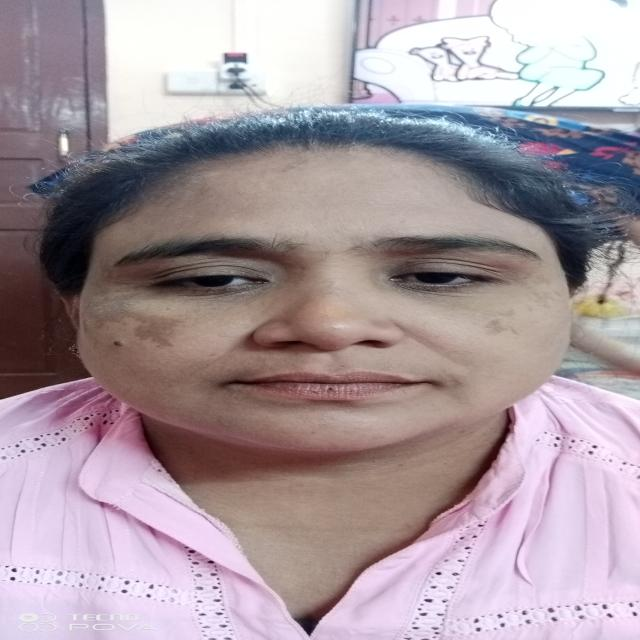Dry-Skin: (86, 298, 140, 316)
Eyebags: (132, 282, 282, 304), (377, 280, 510, 304)
Wrinkles: (402, 331, 467, 369), (190, 341, 247, 375)
